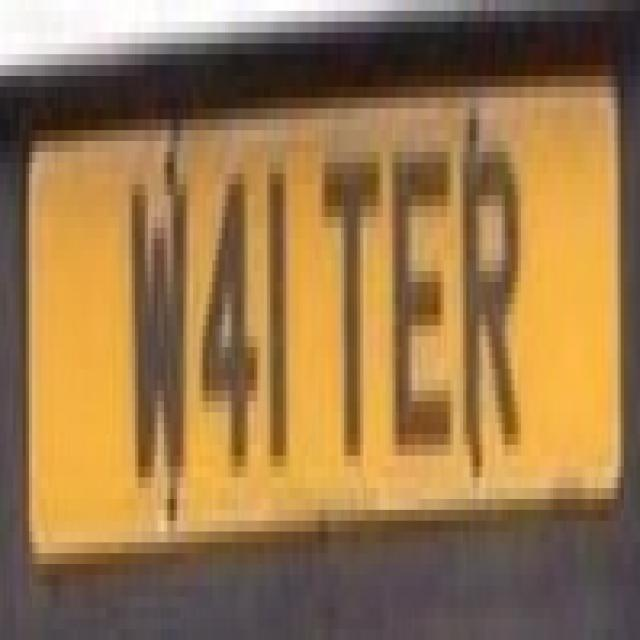licenseplate: (16, 38, 634, 606)
